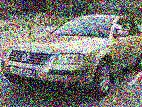car: (2, 14, 142, 99)
